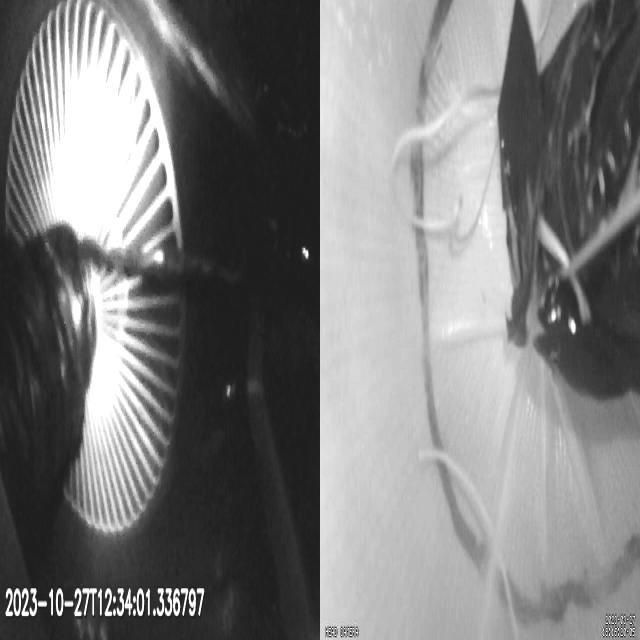red-circle: (412, 0, 640, 624)
